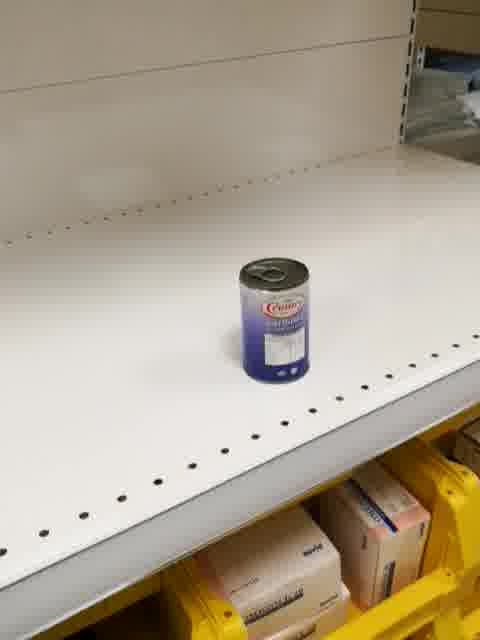sardine: (238, 255, 313, 386)
